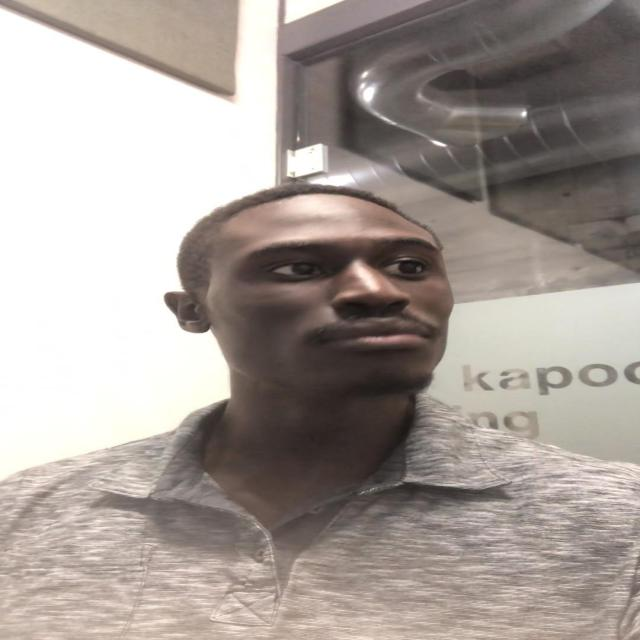face: (193, 203, 452, 398)
